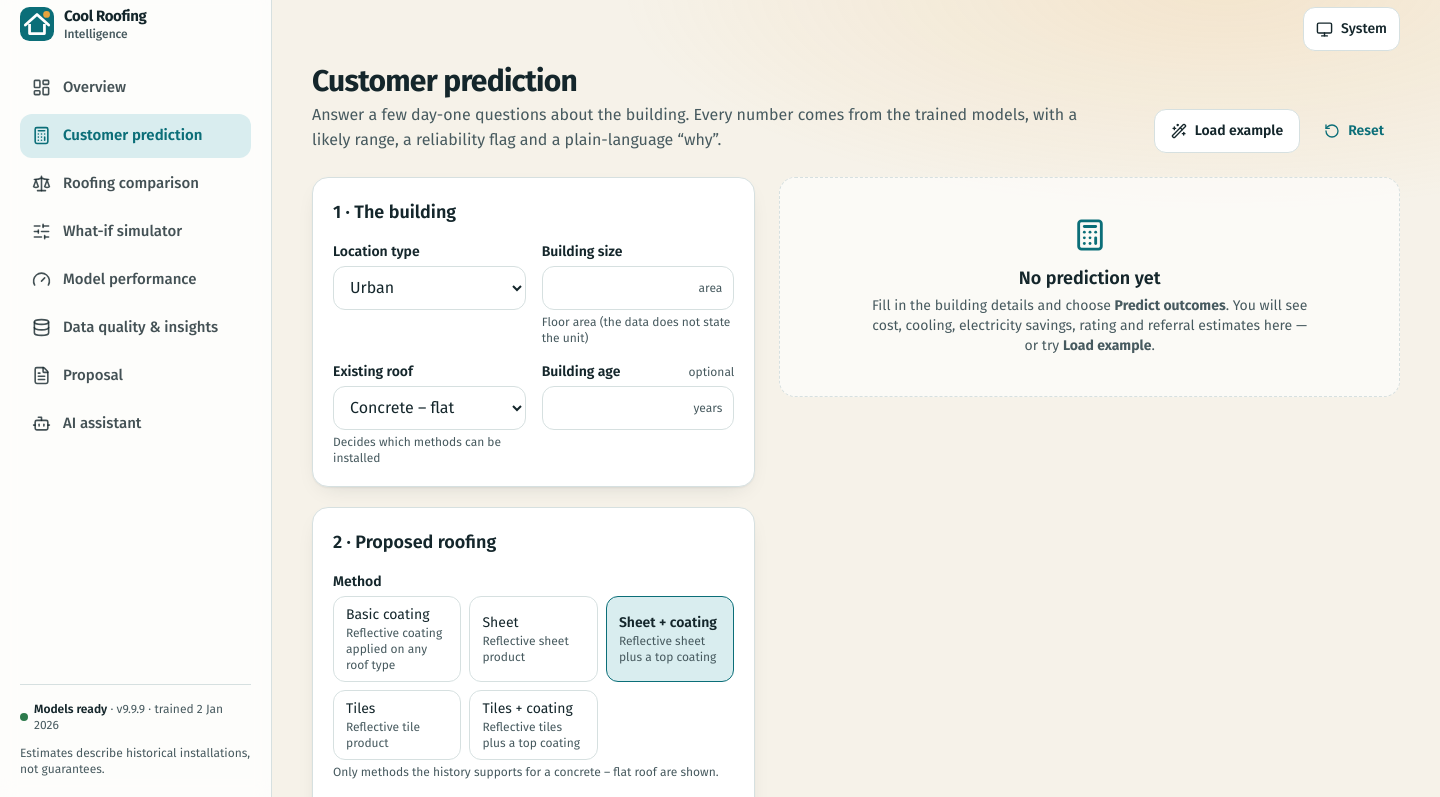
Test: customer prediction › distinguishes the expected rating from the probability of a high rating
Click the button "Load example". click: point(1227, 131)
box: [1154, 109, 1300, 153]
(page scrolled)
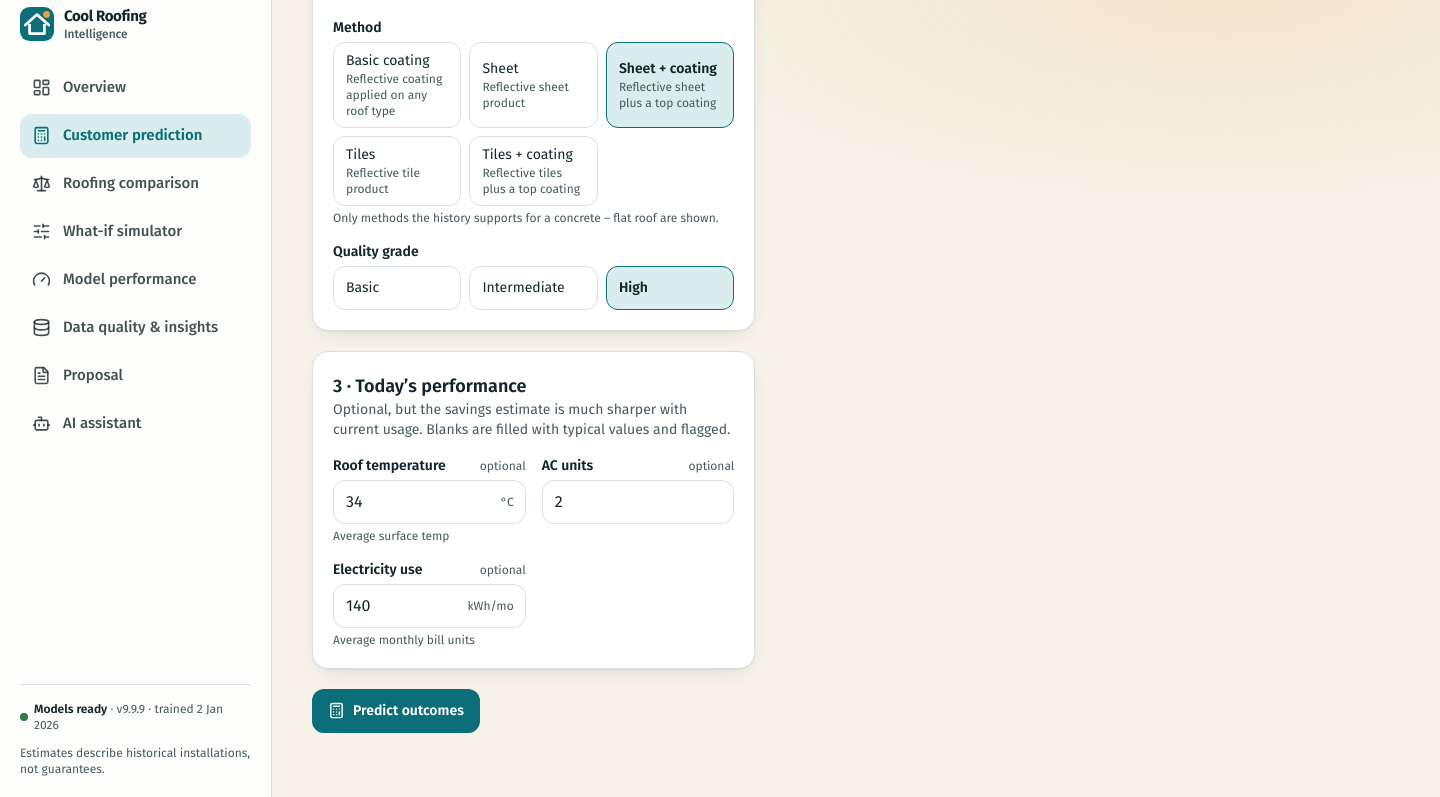
Click the button "Predict outcomes". click: point(396, 711)
box: [312, 689, 480, 733]
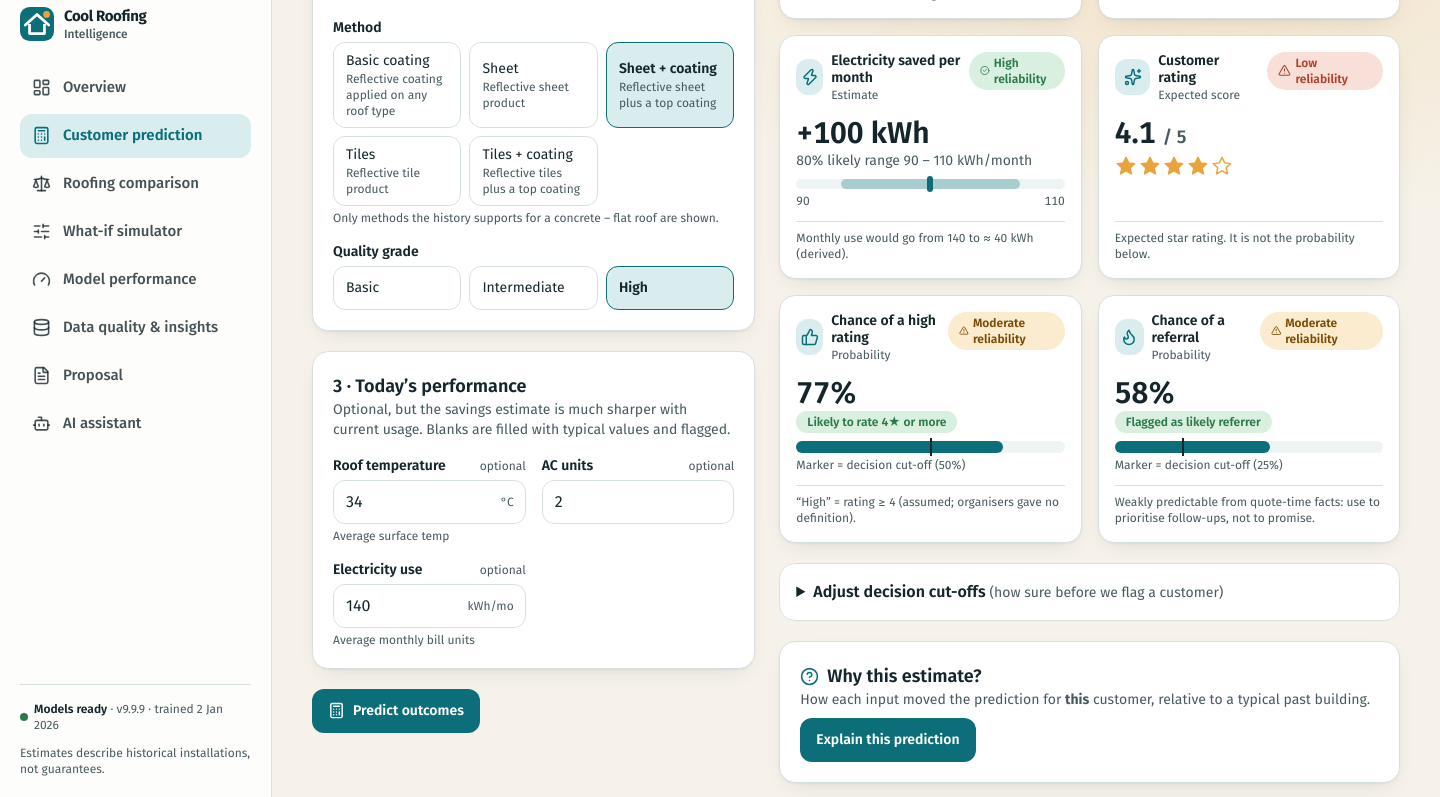
Result: the text "Expected star rating. It is not the probability below." is shown at [1115, 221, 1383, 262]
Result: the text "assumed; organisers gave no definition" is shown at [796, 495, 1059, 525]
